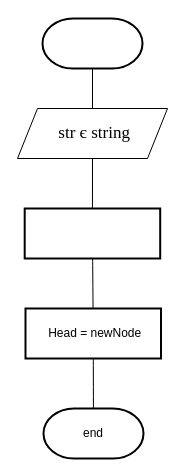
This 185x476 diagram has some shape labels left out. Here are the shapes that lost their labels. From the top down, the centre of each, then its label:
pixel 92 43: start
pixel 92 233: Node newNode = new Node(str, Head)
